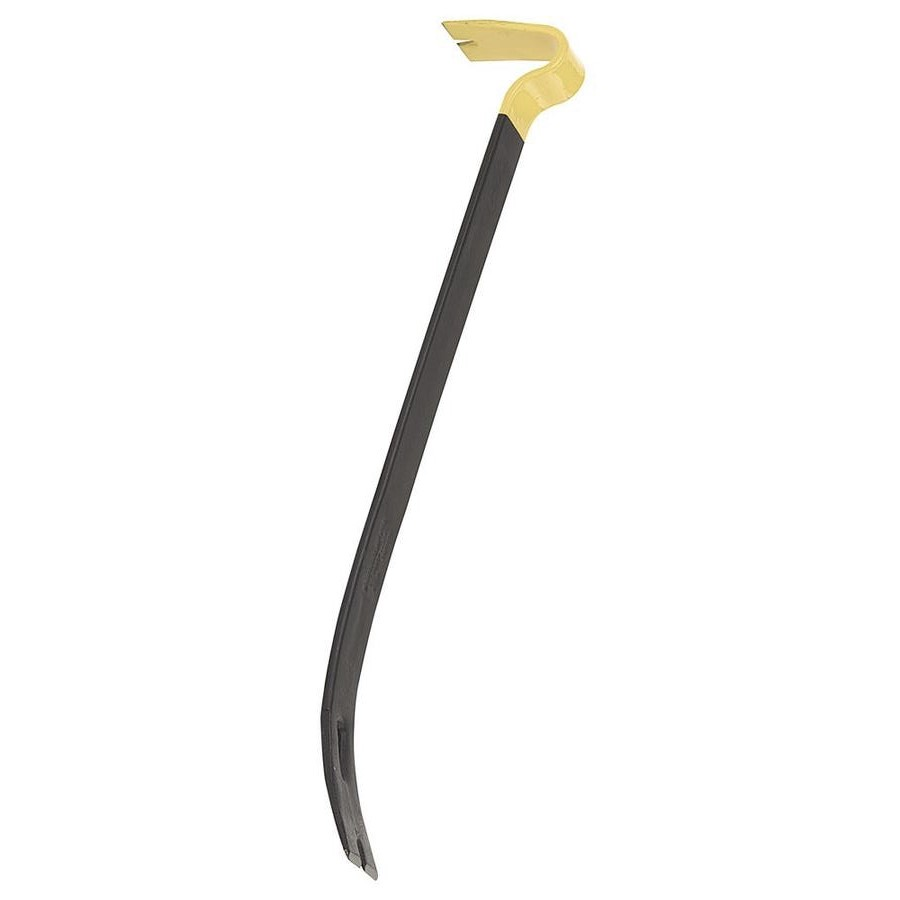crowbar: (280, 8, 588, 878)
